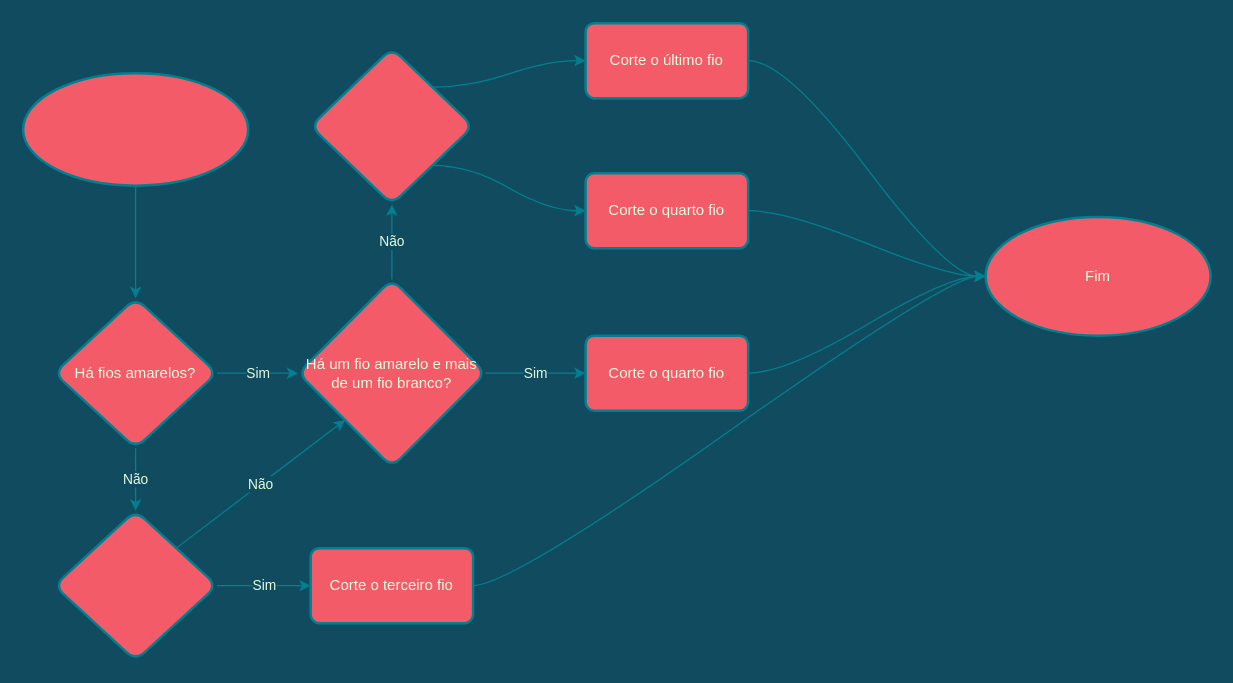
The diagram is 1233 pixels wide and 683 high, and some of its shapes have lost their labels. The shapes that lost their labels are listed below. From the top down, each one's box as (x1, y1, x2, y2) in pixels, then its label:
(21, 71, 249, 186): Início
(309, 46, 474, 205): Há fios vermelhos?
(52, 509, 218, 661): O último dígito do "serial number" é impar?
